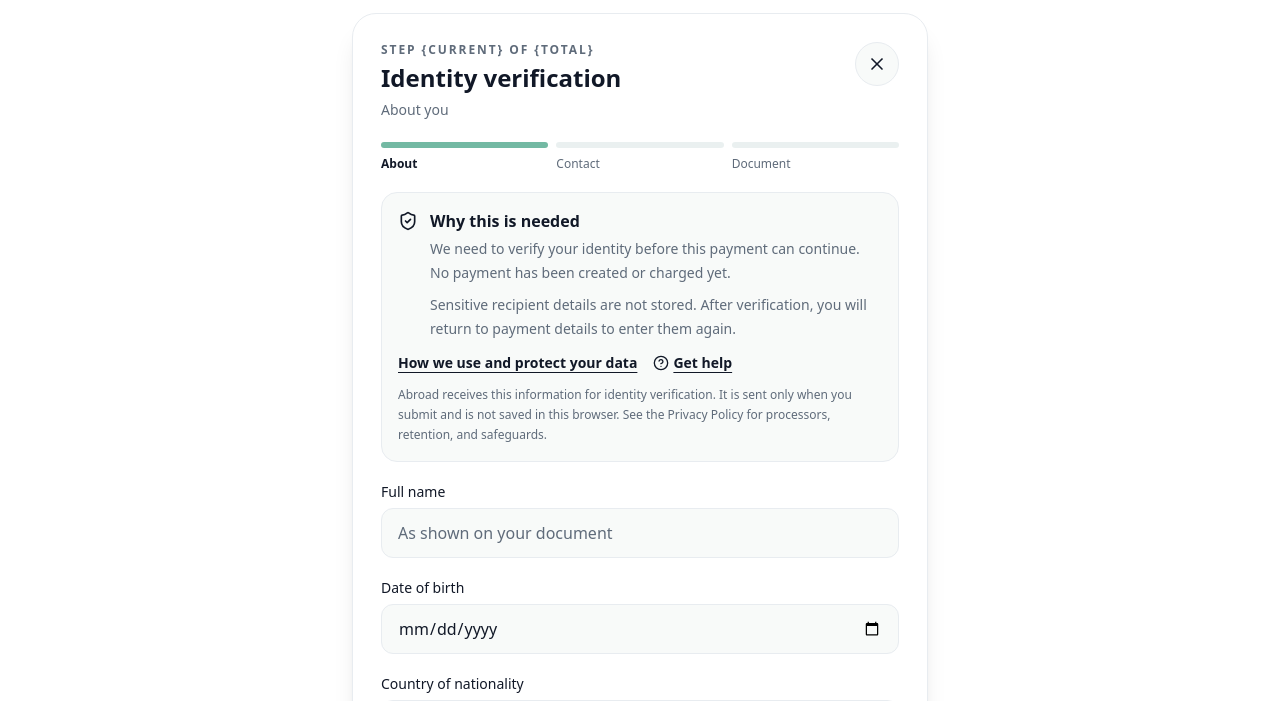
progressive identity verification › requires confirmation before discarding an in-memory sensitive draft
In the field labelled "Full name": [640, 533] box top-left (381, 508), bottom-right (899, 558), type "Ada"
(page scrolled)
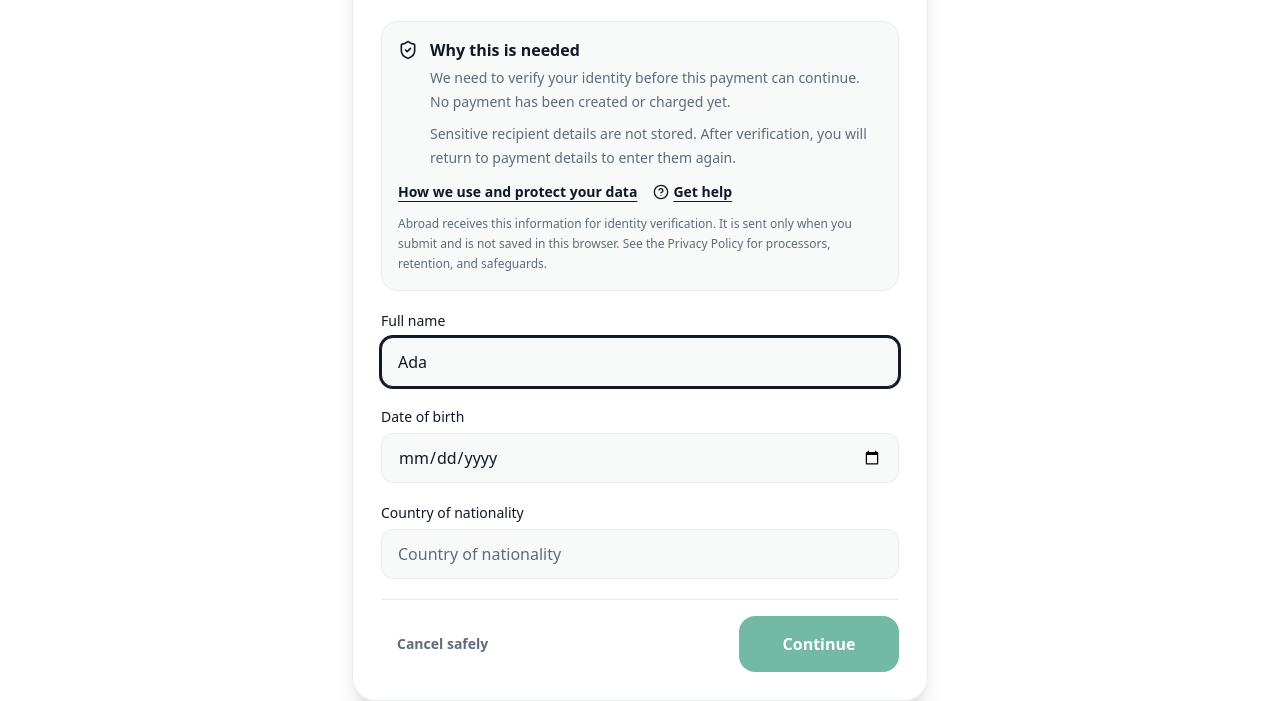
Click the button "Cancel safely": [443, 644] box top-left (381, 622), bottom-right (504, 666)
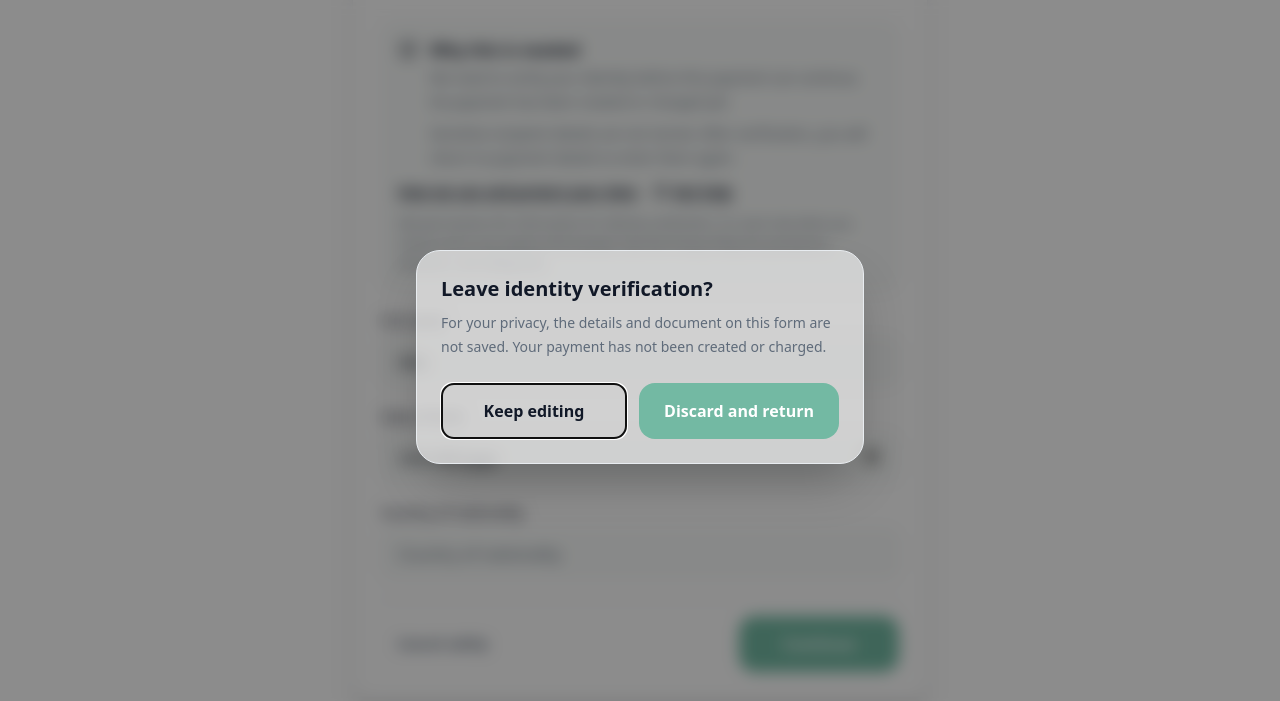
Check: the dialog "Leave identity verification?" is shown, box top-left (416, 250), bottom-right (864, 464)
Click the button "Keep editing": [534, 411] box top-left (441, 383), bottom-right (627, 439)
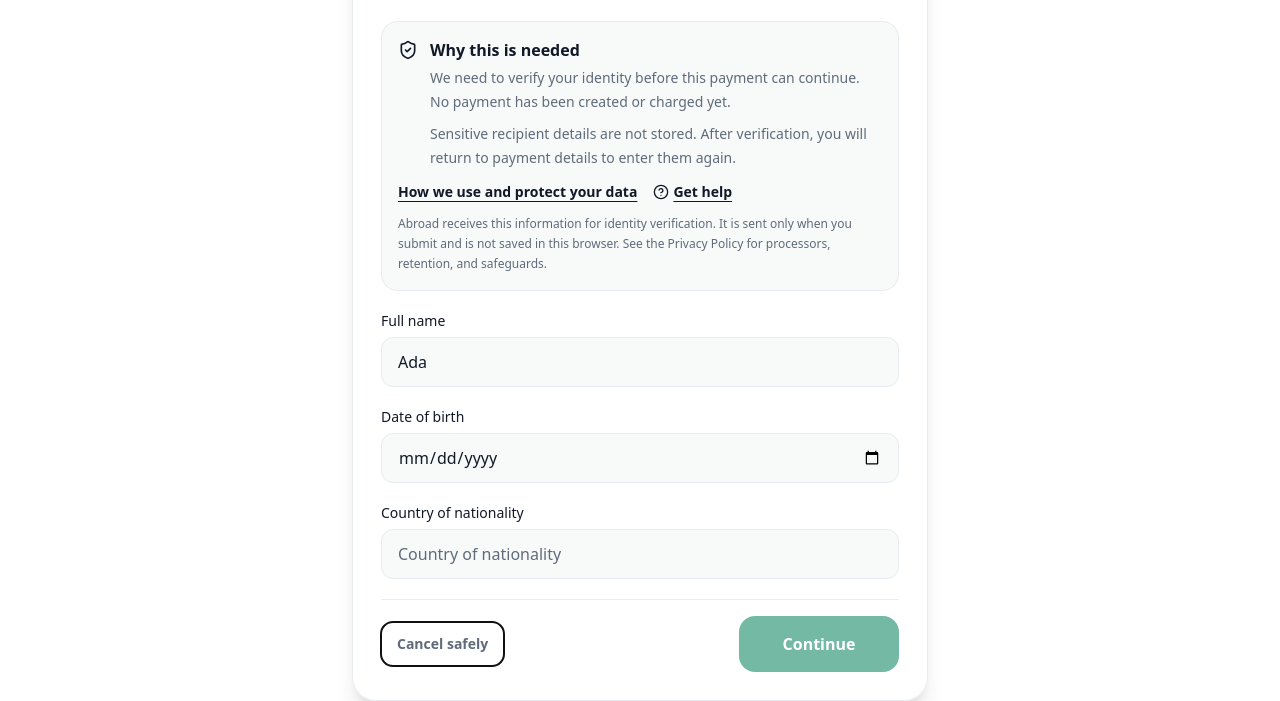
Check: the dialog is gone
